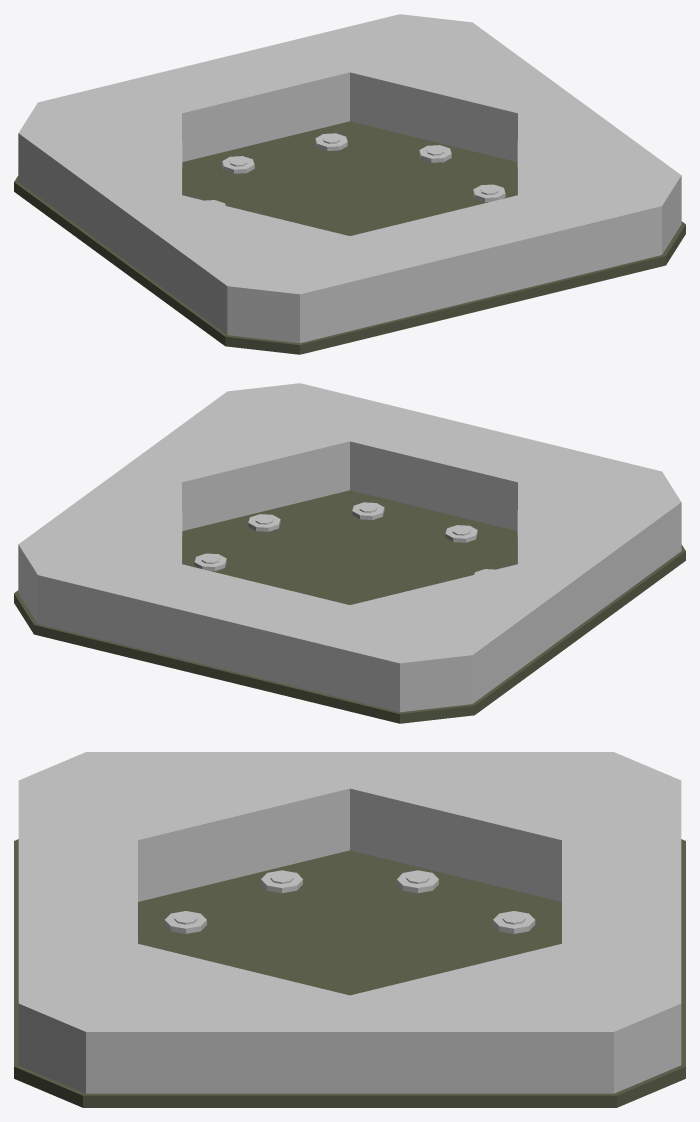
The model's file is cerebrex_core.obj.
3 renders of one model, top to bottom at view 1: azimuth 30°, elevation 25°; view 2: azimuth 150°, elevation 25°; view 3: azimuth 270°, elevation 25°, orthographic. The views are drawn at different scales.
Visible parts, largest first — view 1: cerebrex_core_0, cerebrex_core_11, cerebrex_core_4, cerebrex_core_1, cerebrex_core_7, cerebrex_core_8, cerebrex_core_9, cerebrex_core_14, cerebrex_core_2, cerebrex_core_13, cerebrex_core_12, cerebrex_core_10 (+3 smaller); view 2: cerebrex_core_0, cerebrex_core_4, cerebrex_core_11, cerebrex_core_14, cerebrex_core_8, cerebrex_core_7, cerebrex_core_6, cerebrex_core_1, cerebrex_core_13, cerebrex_core_2, cerebrex_core_3, cerebrex_core_5 (+3 smaller); view 3: cerebrex_core_0, cerebrex_core_1, cerebrex_core_14, cerebrex_core_7, cerebrex_core_8, cerebrex_core_4, cerebrex_core_11, cerebrex_core_2, cerebrex_core_13, cerebrex_core_6, cerebrex_core_9, cerebrex_core_5 (+7 smaller).
Boxes of the visible parts, x1,y1,x2,y2 form: cerebrex_core_0: [14, 121, 685, 354]; cerebrex_core_11: [350, 195, 612, 330]; cerebrex_core_4: [88, 26, 349, 161]; cerebrex_core_1: [412, 22, 576, 161]; cerebrex_core_7: [18, 133, 182, 258]; cerebrex_core_8: [123, 195, 287, 334]; cerebrex_core_9: [227, 221, 322, 343]; cerebrex_core_14: [517, 99, 680, 175]; cerebrex_core_2: [377, 14, 471, 136]; cerebrex_core_13: [517, 165, 681, 254]; cerebrex_core_12: [518, 182, 661, 266]; cerebrex_core_10: [300, 229, 349, 343]; cerebrex_core_0: [14, 490, 685, 723]; cerebrex_core_4: [87, 564, 349, 699]; cerebrex_core_11: [350, 395, 611, 530]; cerebrex_core_14: [123, 391, 287, 530]; cerebrex_core_8: [517, 502, 681, 627]; cerebrex_core_7: [412, 564, 576, 703]; cerebrex_core_6: [377, 590, 472, 712]; cerebrex_core_1: [19, 468, 182, 544]; cerebrex_core_13: [228, 383, 322, 505]; cerebrex_core_2: [18, 534, 182, 623]; cerebrex_core_3: [38, 551, 181, 635]; cerebrex_core_5: [350, 598, 399, 712]; cerebrex_core_0: [14, 839, 685, 1107]; cerebrex_core_1: [350, 963, 613, 1093]; cerebrex_core_14: [86, 963, 349, 1093]; cerebrex_core_7: [350, 752, 613, 882]; cerebrex_core_8: [86, 752, 349, 882]; cerebrex_core_4: [562, 811, 681, 972]; cerebrex_core_11: [18, 811, 137, 972]; cerebrex_core_2: [484, 952, 681, 1093]; cerebrex_core_13: [18, 952, 215, 1093]; cerebrex_core_6: [483, 752, 680, 893]; cerebrex_core_9: [19, 752, 216, 893]; cerebrex_core_5: [528, 780, 681, 901].
Size of the model in its own units: 7 by 0.85 by 7.
